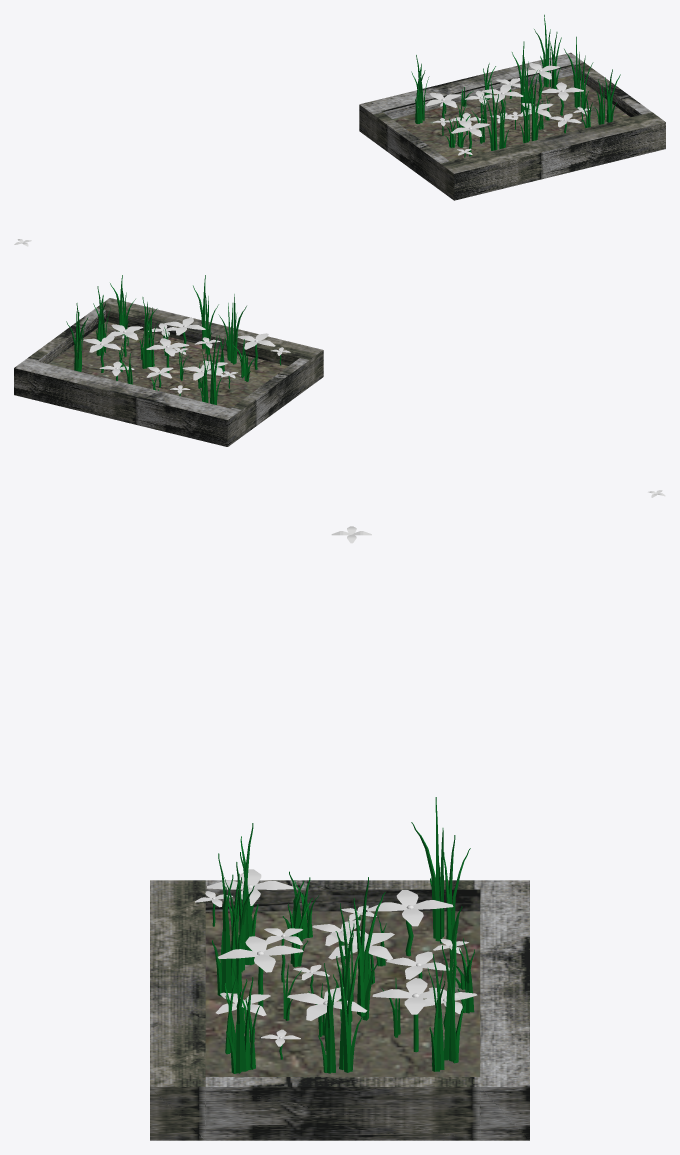
File: Flowerbox.fbx
The picture shows the model from 3 angles, top to bottom: view 1: azimuth 30°, elevation 25°; view 2: azimuth 150°, elevation 25°; view 3: azimuth 270°, elevation 25°; orthographic projection. The views are drawn at different scales.
Visible parts, largest first — view 1: Cube, Grass3.004, Grass3.007, Grass3.001, Grass3.003, Grass3.005, Grass3, Grass3.002, Flower.012, Flower.002, Flower; view 2: Cube, Grass3.007, Grass3, Grass3.002, Grass3.004, Grass3.001, Grass3.003, Flower.012, Flower.002, Grass3.005, Flower.009, Flower.011 (+1 smaller); view 3: Cube, Grass3.001, Grass3.003, Grass3, Grass3.002, Grass3.004, Grass3.005, Grass3.007, Flower.011, Flower, Flower.002, Flower.009 (+2 smaller).
Boxes of the visible parts, box(x1,y1,x2,y2) form: Cube: box(359, 52, 665, 200); Grass3.004: box(519, 75, 545, 143); Grass3.007: box(484, 81, 508, 150); Grass3.001: box(534, 14, 561, 89); Grass3.003: box(564, 36, 593, 109); Grass3.005: box(595, 69, 620, 124); Grass3: box(411, 55, 429, 123); Grass3.002: box(512, 41, 537, 119); Flower.012: box(451, 120, 489, 156); Flower.002: box(521, 63, 559, 99); Flower: box(425, 92, 461, 122); Cube: box(14, 298, 323, 446); Grass3.007: box(218, 294, 246, 364); Grass3: box(199, 336, 221, 404); Grass3.002: box(139, 297, 157, 368); Grass3.004: box(193, 275, 218, 354); Grass3.001: box(66, 303, 88, 371); Grass3.003: box(93, 286, 110, 355); Flower.012: box(237, 333, 275, 369); Flower.002: box(83, 336, 120, 372); Grass3.005: box(110, 275, 135, 335); Flower.009: box(106, 324, 143, 356); Flower.011: box(164, 317, 205, 354); Cube: box(150, 880, 529, 1140); Grass3.001: box(428, 919, 466, 1071); Grass3.003: box(318, 932, 362, 1073); Grass3: box(411, 797, 470, 943); Grass3.002: box(333, 877, 385, 1021); Grass3.004: box(212, 853, 248, 996); Grass3.005: box(226, 963, 262, 1073); Grass3.007: box(224, 823, 258, 972); Flower.011: box(218, 936, 303, 1007); Flower: box(367, 890, 453, 956); Flower.002: box(372, 978, 459, 1052); Flower.009: box(287, 987, 367, 1050).
Bounding box in the file's own units: 44.45 × 6.29 × 12.16.
4 materials, 2 textured.
